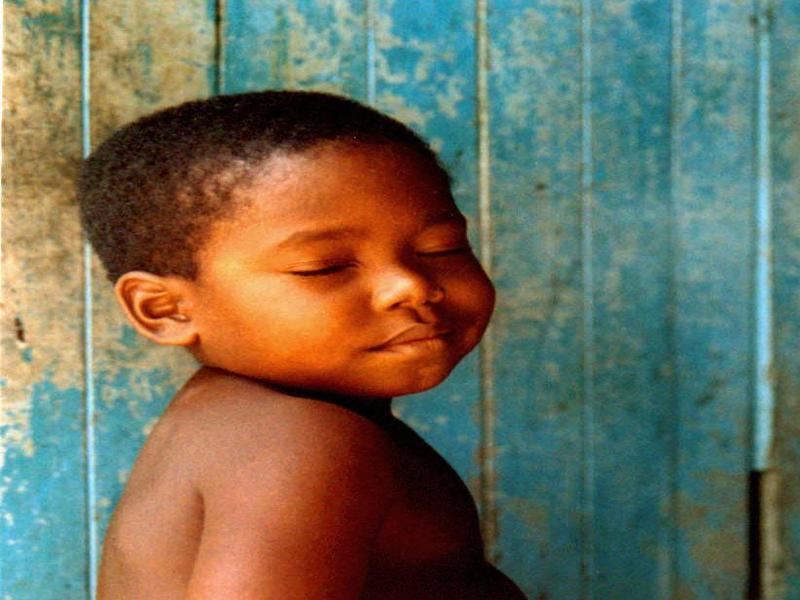person: (60, 84, 530, 600)
